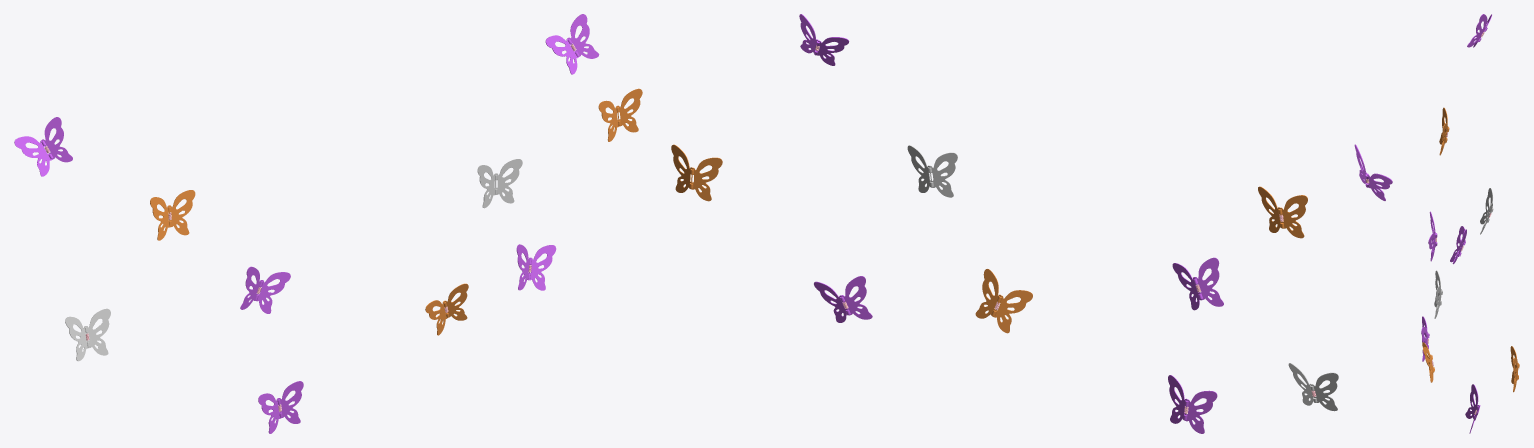
Rendered from butterfly_pin.glb.
The picture shows the model from 3 angles, left to right: view 1: azimuth 30°, elevation 25°; view 2: azimuth 150°, elevation 25°; view 3: azimuth 270°, elevation 25°; orthographic projection. The views are drawn at different scales.
Visible parts, largest first — view 1: pCylinder6, pCylinder8, pCylinder7, pCylinder10, pCylinder4, pCylinder9, pCylinder12, pCylinder5, pCylinder3, pCylinder11; view 2: pCylinder11, pCylinder5, pCylinder12, pCylinder9, pCylinder4, pCylinder3, pCylinder10, pCylinder7, pCylinder8; view 3: pCylinder3, pCylinder6, pCylinder8, pCylinder7, pCylinder10, pCylinder5, pCylinder4, pCylinder9, pCylinder11, pCylinder12.
Boxes of the visible parts, x1=… form: pCylinder6: x1=14, y1=117, x2=72, y2=176; pCylinder8: x1=545, y1=14, x2=599, y2=74; pCylinder7: x1=65, y1=308, x2=110, y2=361; pCylinder10: x1=150, y1=190, x2=195, y2=240; pCylinder4: x1=477, y1=159, x2=522, y2=208; pCylinder9: x1=240, y1=266, x2=290, y2=313; pCylinder12: x1=258, y1=381, x2=303, y2=433; pCylinder5: x1=598, y1=88, x2=642, y2=141; pCylinder3: x1=516, y1=244, x2=556, y2=290; pCylinder11: x1=425, y1=283, x2=468, y2=335; pCylinder11: x1=975, y1=269, x2=1032, y2=333; pCylinder5: x1=671, y1=144, x2=722, y2=201; pCylinder12: x1=1168, y1=375, x2=1217, y2=433; pCylinder9: x1=1172, y1=257, x2=1223, y2=310; pCylinder4: x1=907, y1=145, x2=957, y2=197; pCylinder3: x1=814, y1=276, x2=872, y2=322; pCylinder10: x1=1258, y1=186, x2=1307, y2=238; pCylinder7: x1=1288, y1=363, x2=1338, y2=411; pCylinder8: x1=799, y1=14, x2=849, y2=65; pCylinder3: x1=1465, y1=384, x2=1480, y2=433; pCylinder6: x1=1467, y1=14, x2=1491, y2=47; pCylinder8: x1=1450, y1=226, x2=1466, y2=264; pCylinder7: x1=1480, y1=188, x2=1493, y2=234; pCylinder10: x1=1439, y1=107, x2=1449, y2=155; pCylinder5: x1=1510, y1=346, x2=1519, y2=392; pCylinder4: x1=1434, y1=270, x2=1442, y2=318; pCylinder9: x1=1428, y1=211, x2=1437, y2=261; pCylinder11: x1=1422, y1=342, x2=1434, y2=382; pCylinder12: x1=1421, y1=316, x2=1429, y2=361.
Bounding box in the file's own units: 0.077 × 0.0382 × 0.0126.
